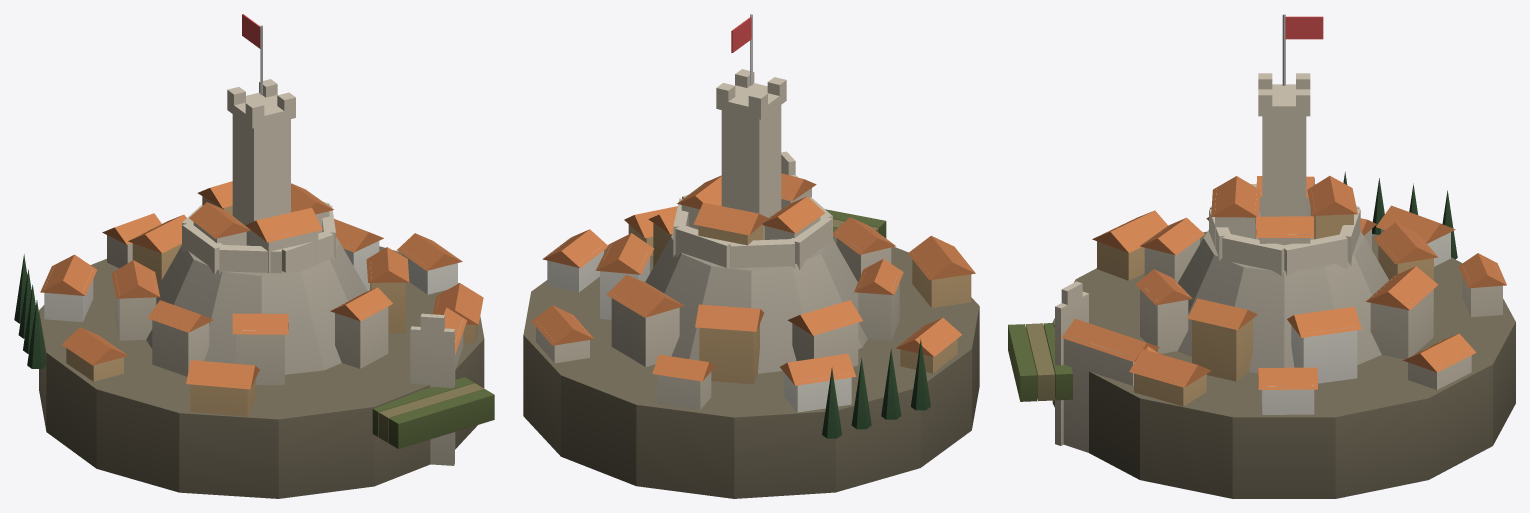
The model's file is village_med_b.glb.
The picture shows the model from 3 angles, left to right: view 1: azimuth 30°, elevation 25°; view 2: azimuth 150°, elevation 25°; view 3: azimuth 270°, elevation 25°; orthographic projection. The views are drawn at different scales.
Parts seen in each view (by area): view 1: village_med_b; view 2: village_med_b; view 3: village_med_b.
Boxes of the visible parts, left/top/right/bottom form: village_med_b: left=14, top=14, right=494, bottom=498; village_med_b: left=523, top=14, right=979, bottom=498; village_med_b: left=1008, top=14, right=1515, bottom=498.
Size of the model in its own units: 1.91 by 1.76 by 2.08.
